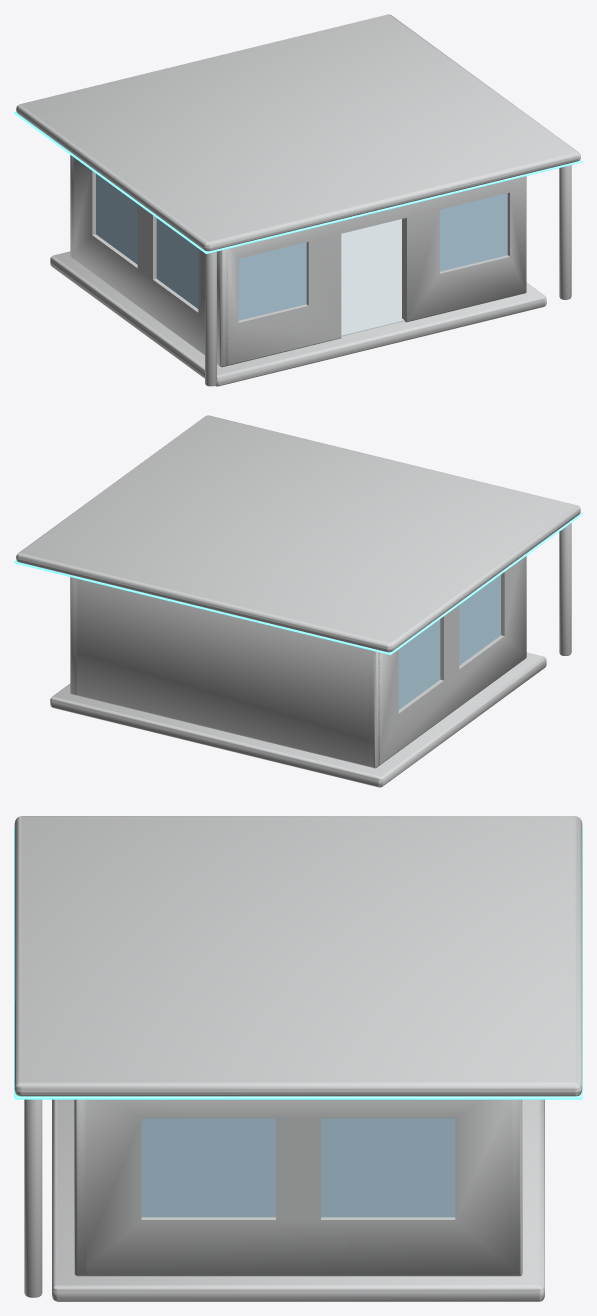
The model's file is aero_house.glb.
3 views of the same model, one above another, from view 1: azimuth 30°, elevation 25°; view 2: azimuth 150°, elevation 25°; view 3: azimuth 270°, elevation 25° (orthographic). The views are drawn at different scales.
Parts seen in each view (by area): view 1: aero_house; view 2: aero_house; view 3: aero_house.
Boxes of the visible parts, x1,y1,x2,y2 form: aero_house: (14, 14, 582, 386); aero_house: (14, 415, 582, 787); aero_house: (14, 816, 582, 1301).
Size of the model in its own units: 8.62 by 3.47 by 7.62.
